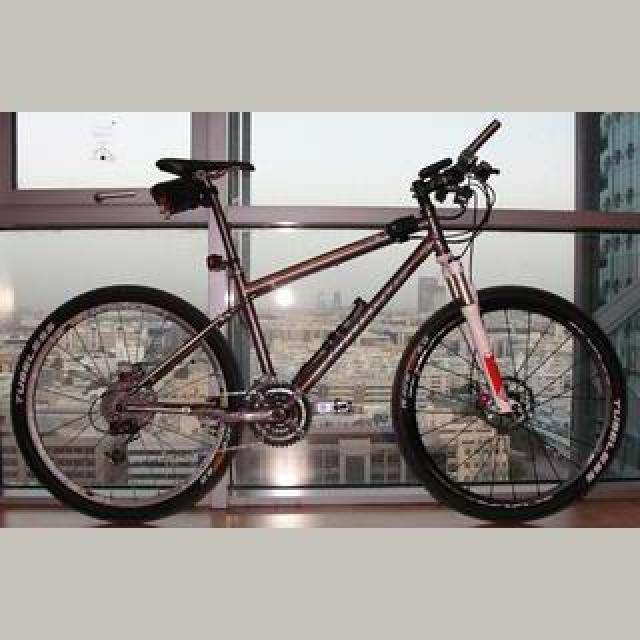Person: (13, 112, 625, 528)
